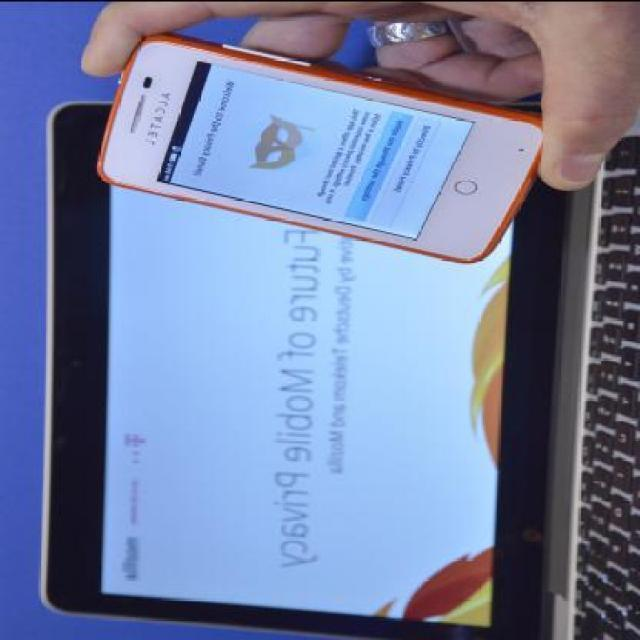phone: (104, 26, 538, 260)
